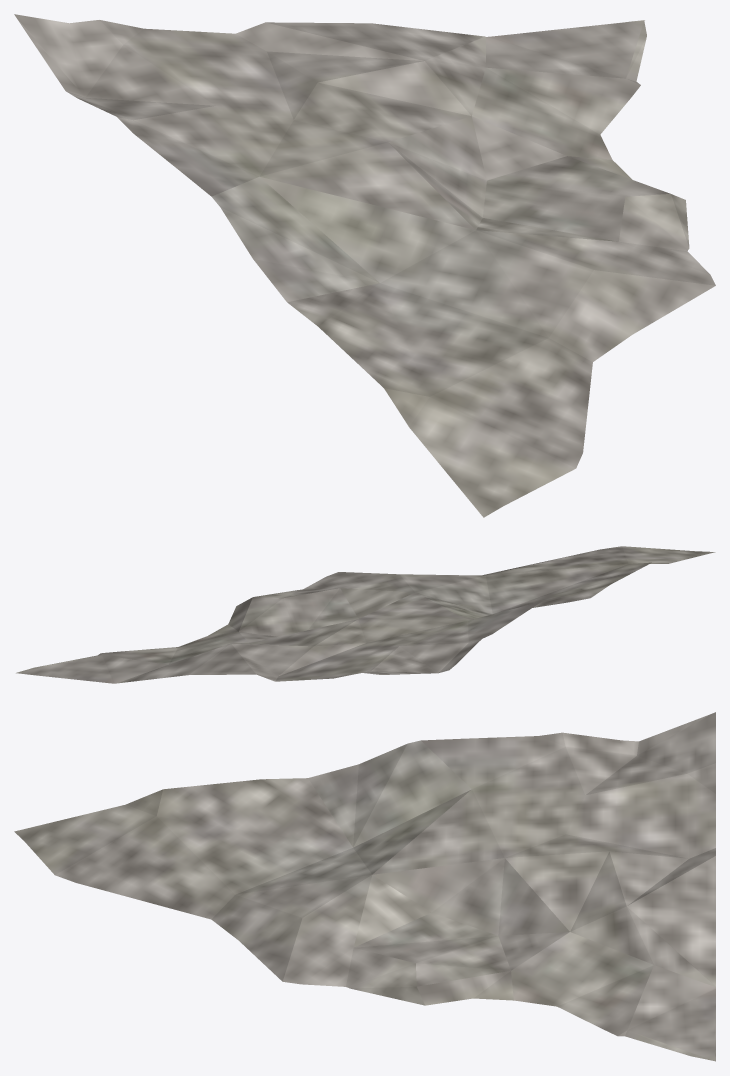
3 views of the same model, one above another, from view 1: azimuth 30°, elevation 25°; view 2: azimuth 150°, elevation 25°; view 3: azimuth 270°, elevation 25° (orthographic). The views are drawn at different scales.
Bounding box in the file's own units: 0.2657 × 0.0643 × 0.3422.
Materials: 1 (1 with a texture image).
